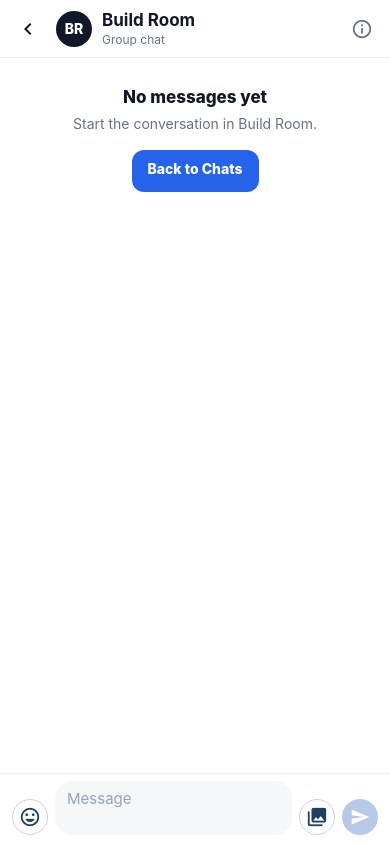
NativeChatRoomPage › opens the group info drawer from the header info action
Step 1. Click the button named "Chat info" → (362, 28), box [344,10,380,46]
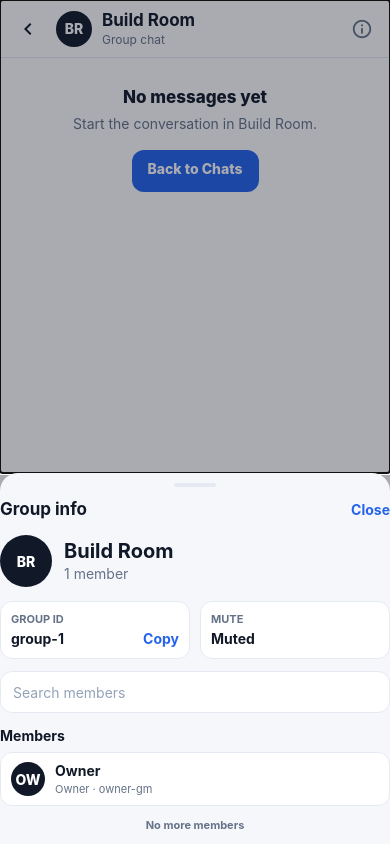
Check: the text "Muted" is shown, box [211,630,255,647]
Check: the text "Owner" is shown, box [55,762,100,778]
